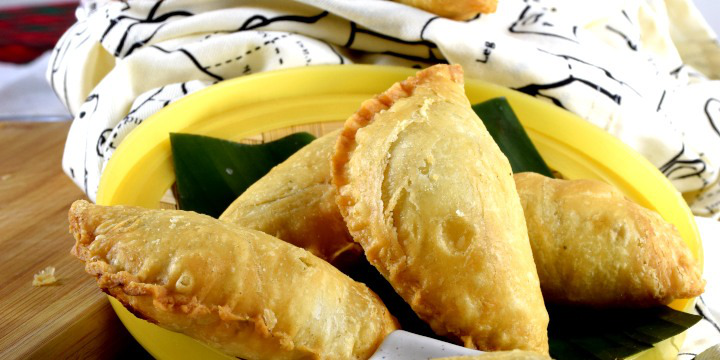Curry Puff: (343, 68, 560, 359), (54, 184, 336, 353), (480, 166, 712, 303)
